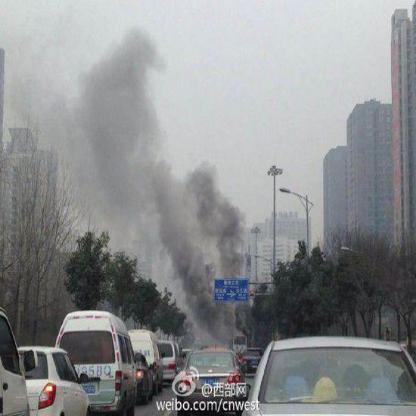smoke: (176, 159, 250, 337), (80, 33, 170, 168), (95, 170, 176, 245)
